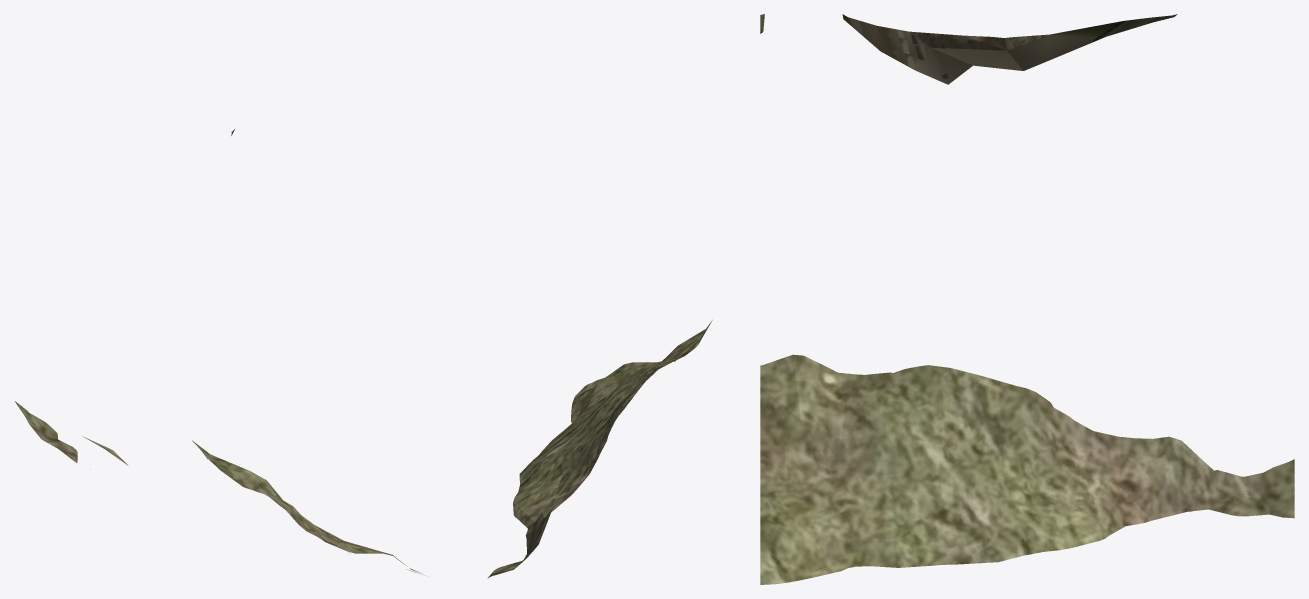
3 views of the same model, side by side, from view 1: azimuth 30°, elevation 25°; view 2: azimuth 150°, elevation 25°; view 3: azimuth 270°, elevation 25° (orthographic). The views are drawn at different scales.
Bounding box in the file's own units: 1.13 × 2.95 × 2.95.
1 material, 1 textured.
